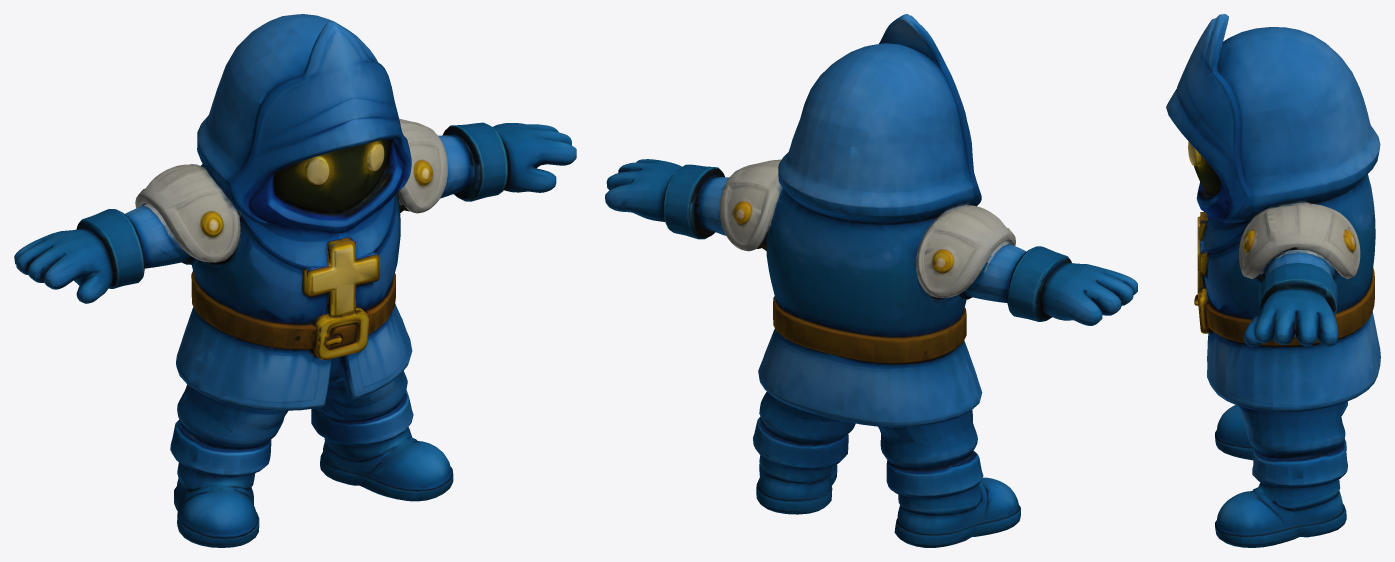
File: healer3.fbx
3 views of the same model, side by side, from view 1: azimuth 30°, elevation 25°; view 2: azimuth 150°, elevation 25°; view 3: azimuth 270°, elevation 25° (orthographic). The views are drawn at different scales.
Visible parts, largest first — view 1: material; view 2: material; view 3: material.
Boxes of the visible parts, x1,y1,x2,y2 form: material: (14, 14, 576, 547); material: (605, 14, 1137, 547); material: (1166, 14, 1380, 547).
Size of the model in its own units: 118 by 104 by 42.59.
1 material, 1 textured.
